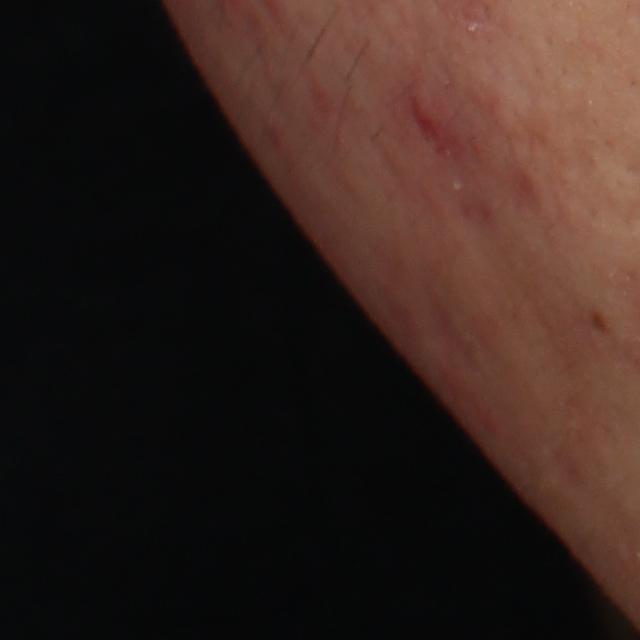nevus: (589, 306, 612, 335)
papule: (404, 90, 449, 154)
